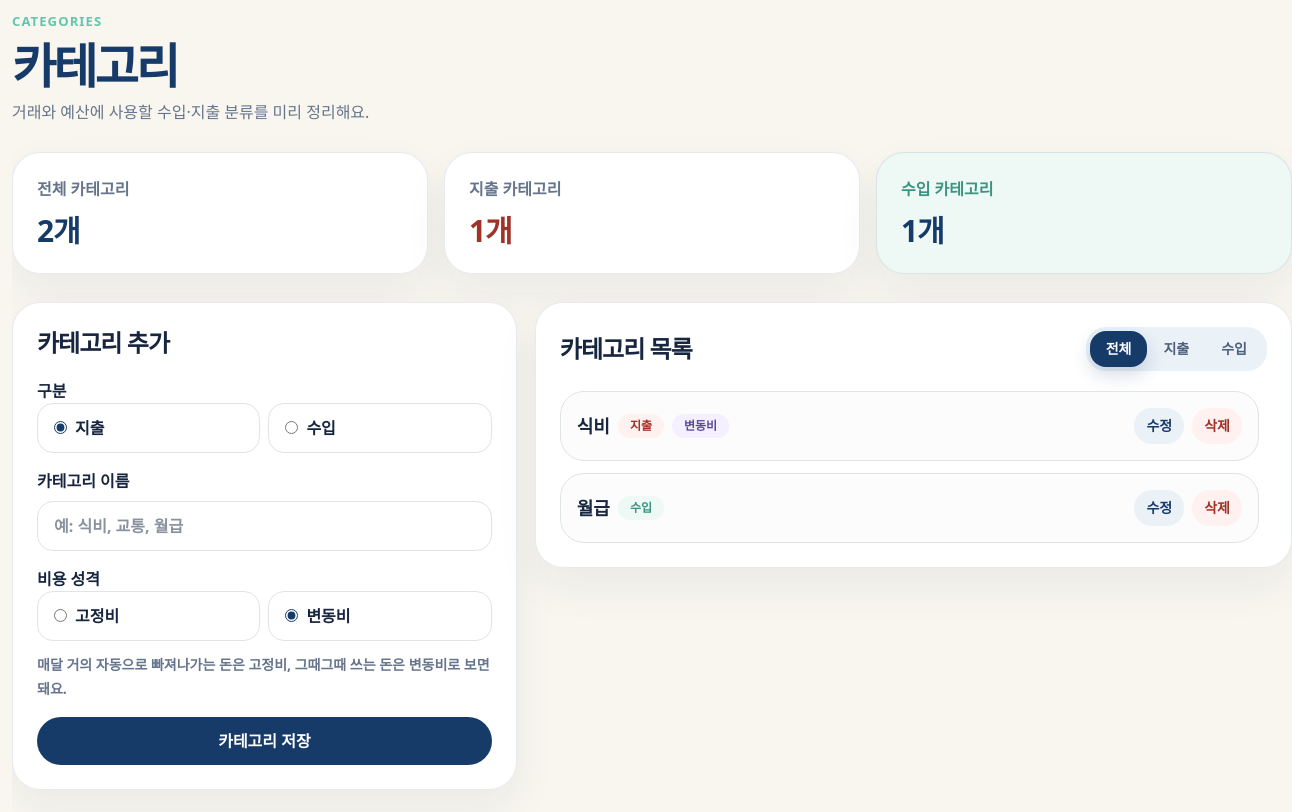
Test: CategoriesPage › filters the category list by expense and income
The image size is (1292, 812).
Check: the text "식비" is shown, box [577,412,610,440]
Check: the text "월급" is shown, box [577,494,610,522]
Click the button "지출" at (1176, 348), box [1148,330,1205,366]
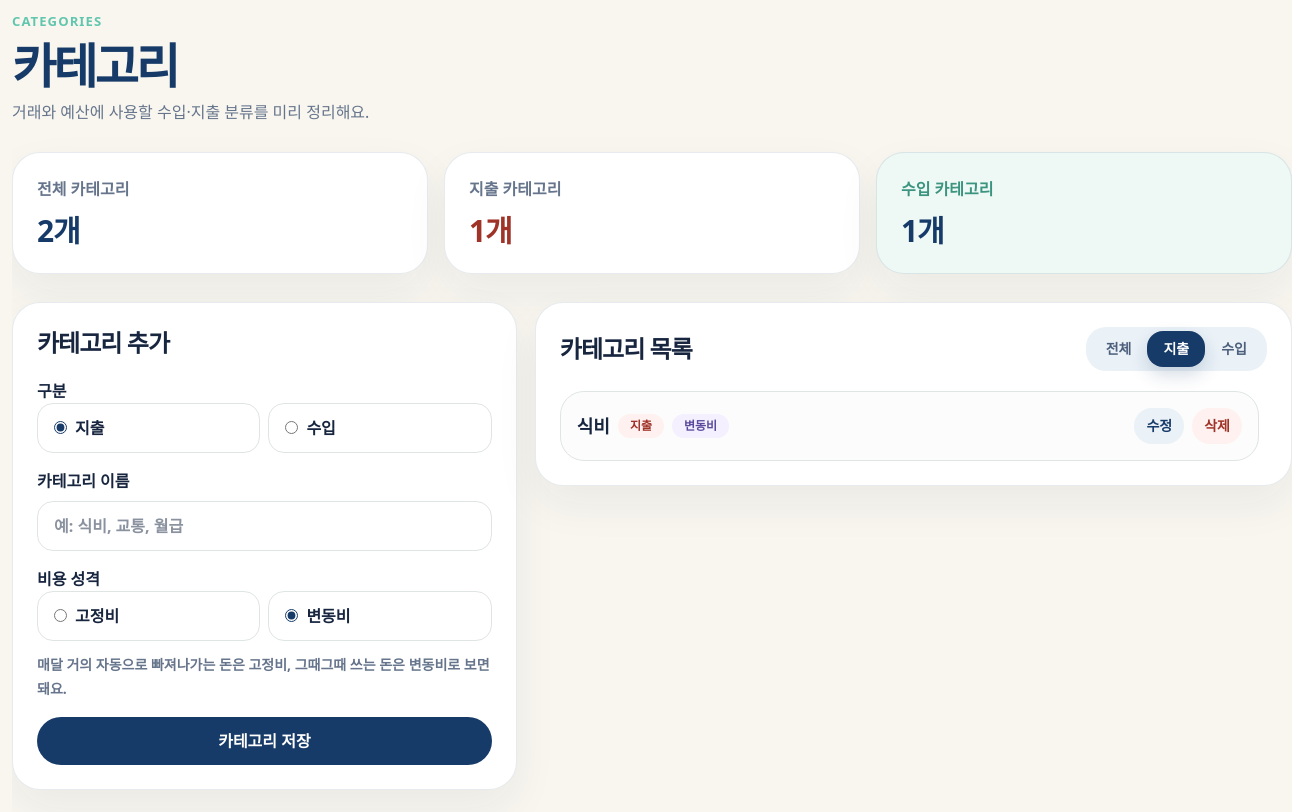
Check: the text "식비" is shown, box [577,412,610,440]
Click the button "수입" at (1234, 348), box [1205,330,1263,366]
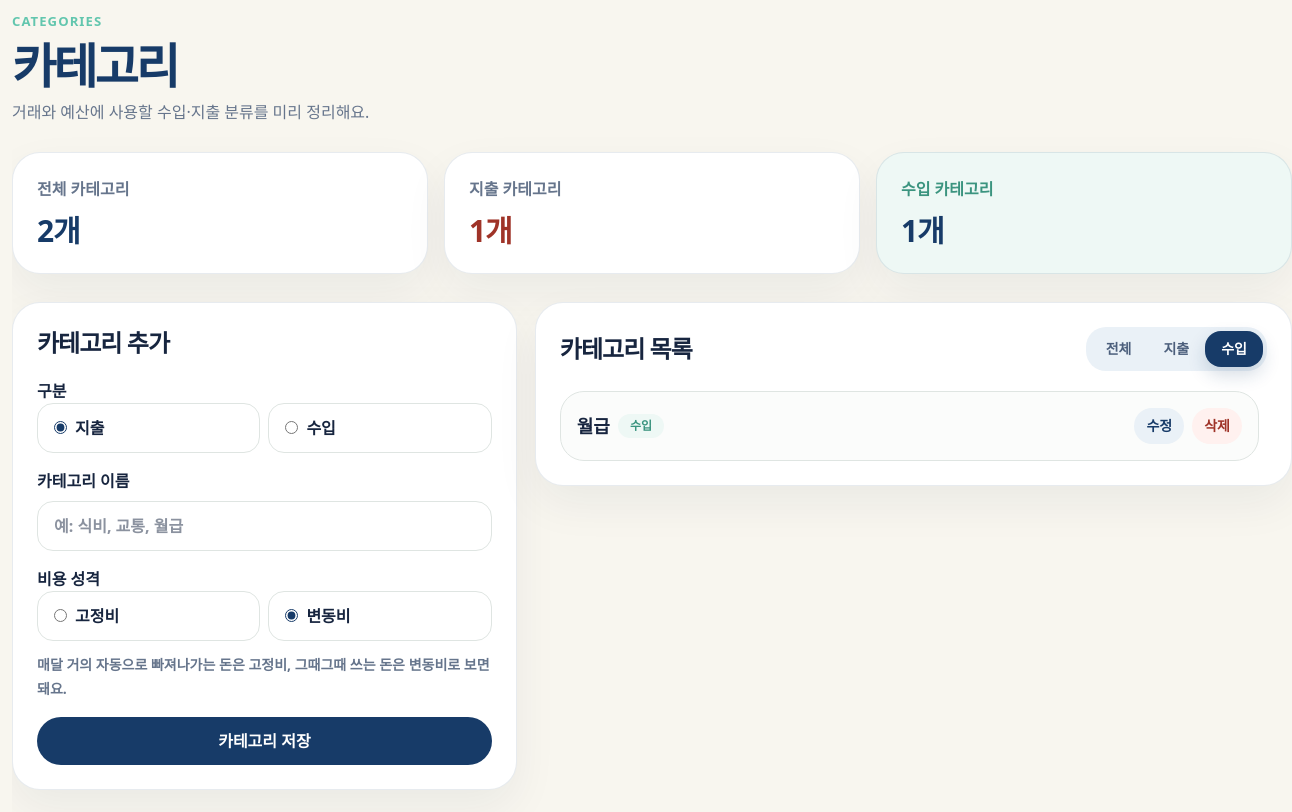
Check: the text "월급" is shown, box [577,412,610,440]
Click the button "전체" at (1119, 348), box [1090,330,1148,366]
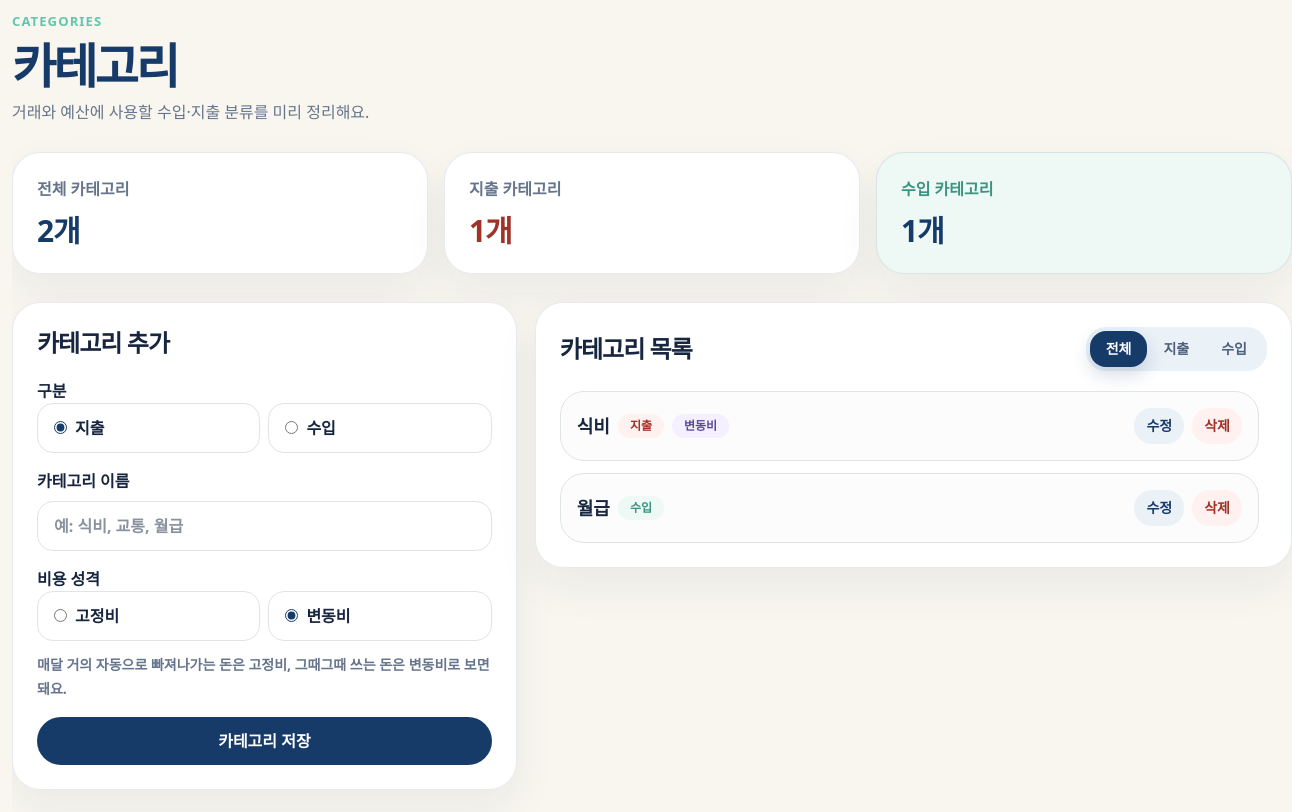
Check: the text "월급" is shown, box [577,494,610,522]
Check: the text "식비" is shown, box [577,412,610,440]
